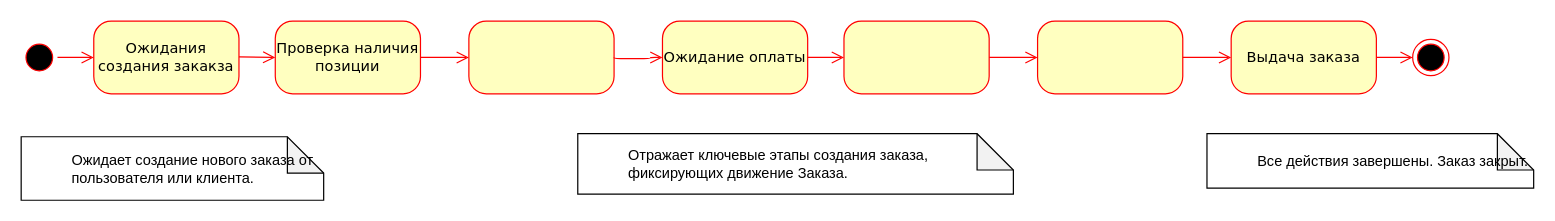
The diagram is 1555 pixels wide and 221 high, and some of its shapes have lost their labels. The shapes that lost their labels are listed below. From the top down, each one's box as (x1, y1, x2, y2) in pixels, then its label:
(468, 20, 614, 94): Оформление заказа
(843, 20, 989, 94): Приготовление заказа
(1036, 20, 1183, 94): Заказ приготовлен
